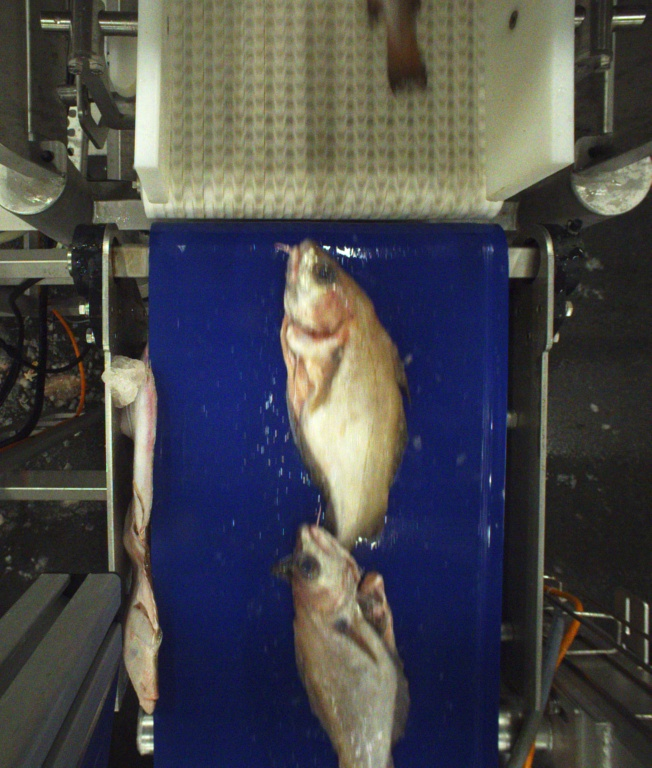BIB: (272, 237, 404, 584)
